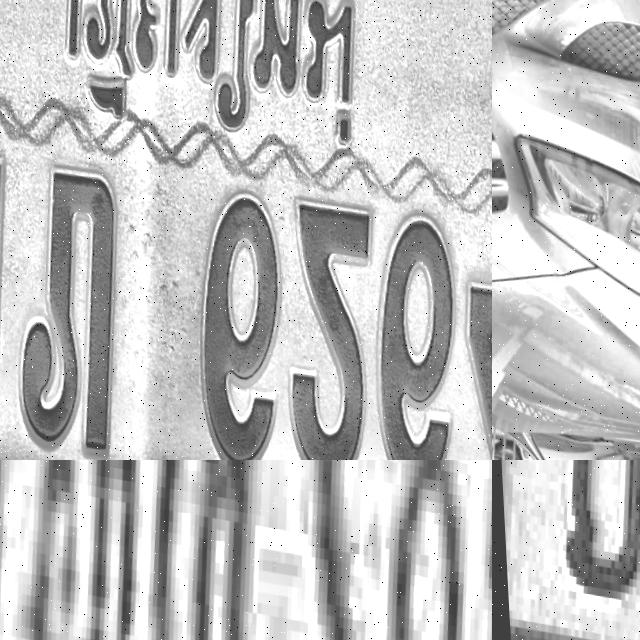license-plate: (0, 0, 492, 460), (0, 460, 492, 640), (492, 460, 640, 640)
